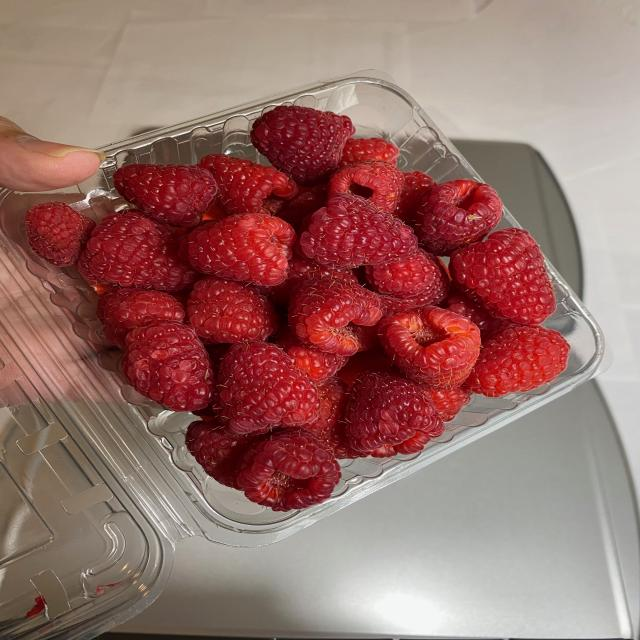Raspberry: (72, 141, 564, 464)
